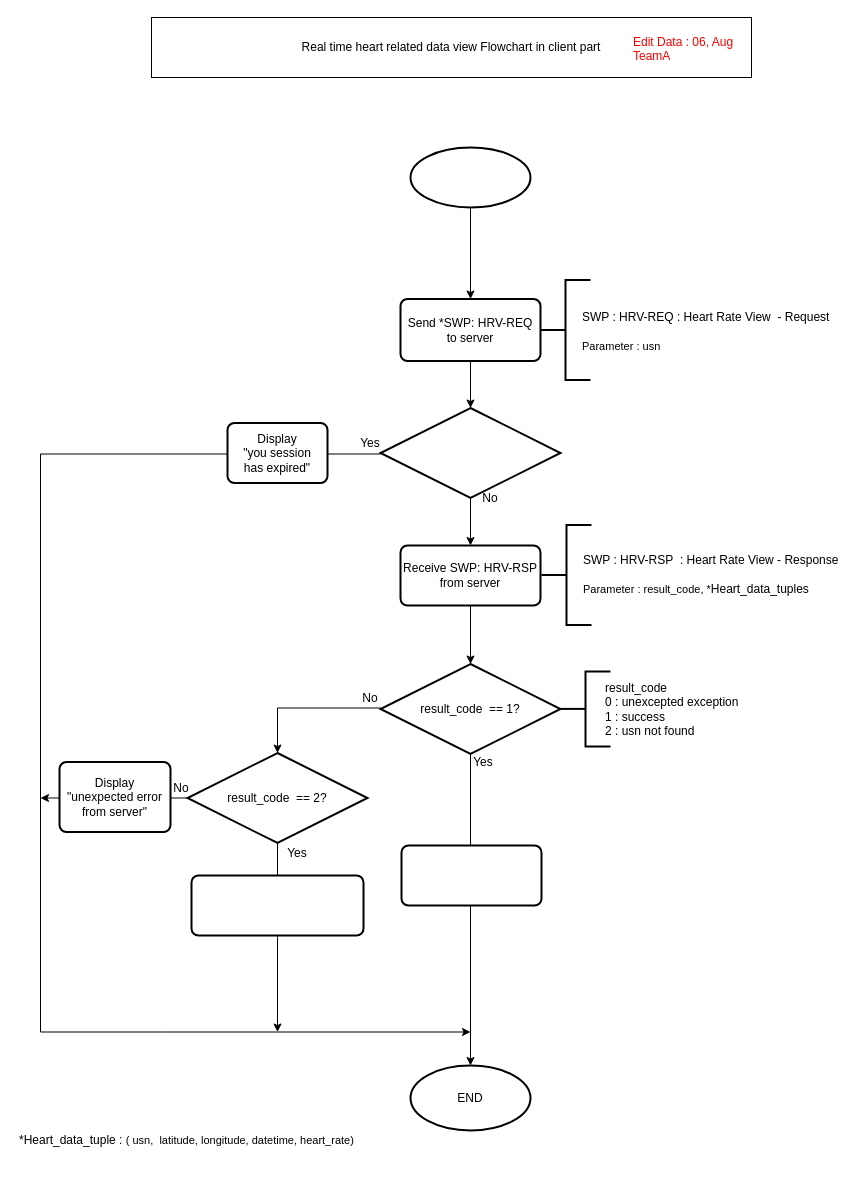
Some shapes in this 868 by 1180 pixel diagram are drawn without their labels. Each missing label, with the box of its shape:
Display "Your data has not found": (190, 874, 364, 936)
Display Real time Heart rate Data: (400, 844, 542, 906)
START: (409, 146, 531, 208)
Timeout (10secs) event is occured?: (379, 406, 561, 498)
